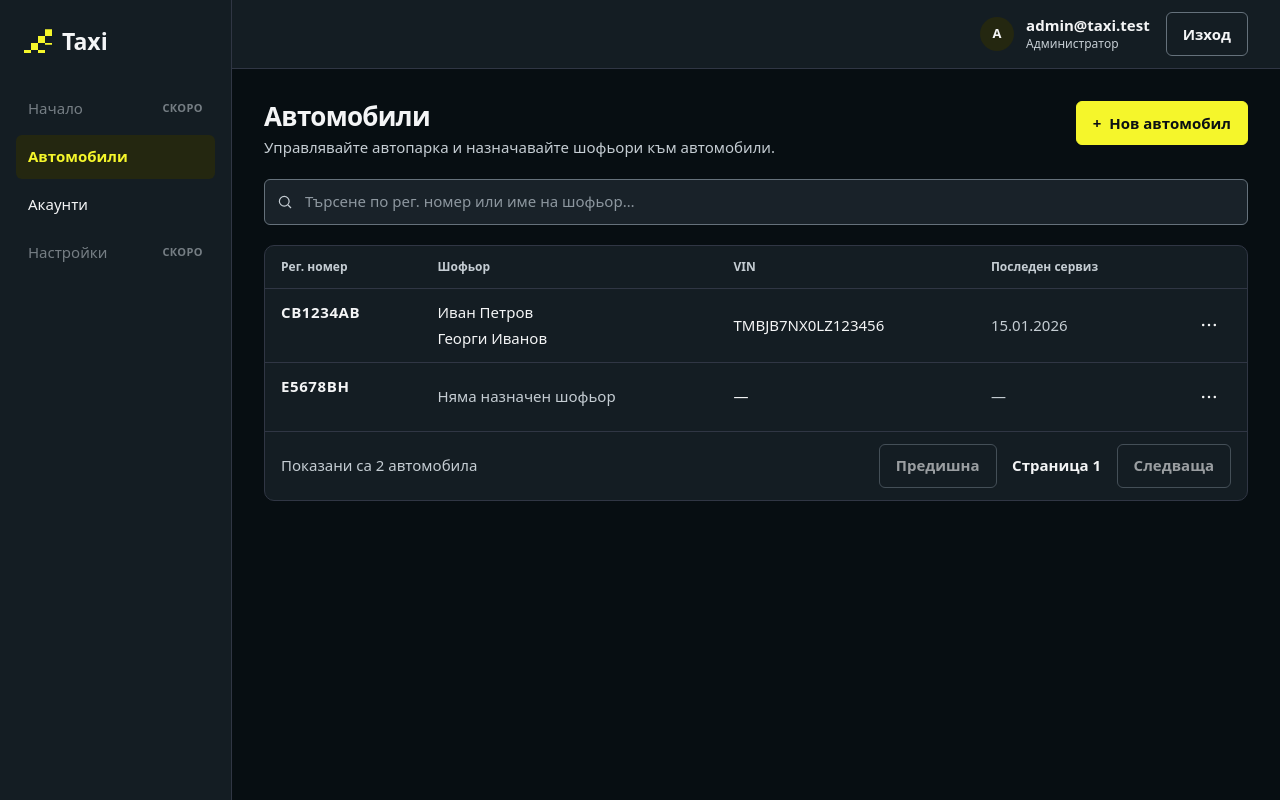
CarsPage (mocked car port, not live integration) › shows the API refusal of a field beside it and focuses it
Click the button named "Действия за CB1234AB" at (1209,325), box [1187,303,1231,347]
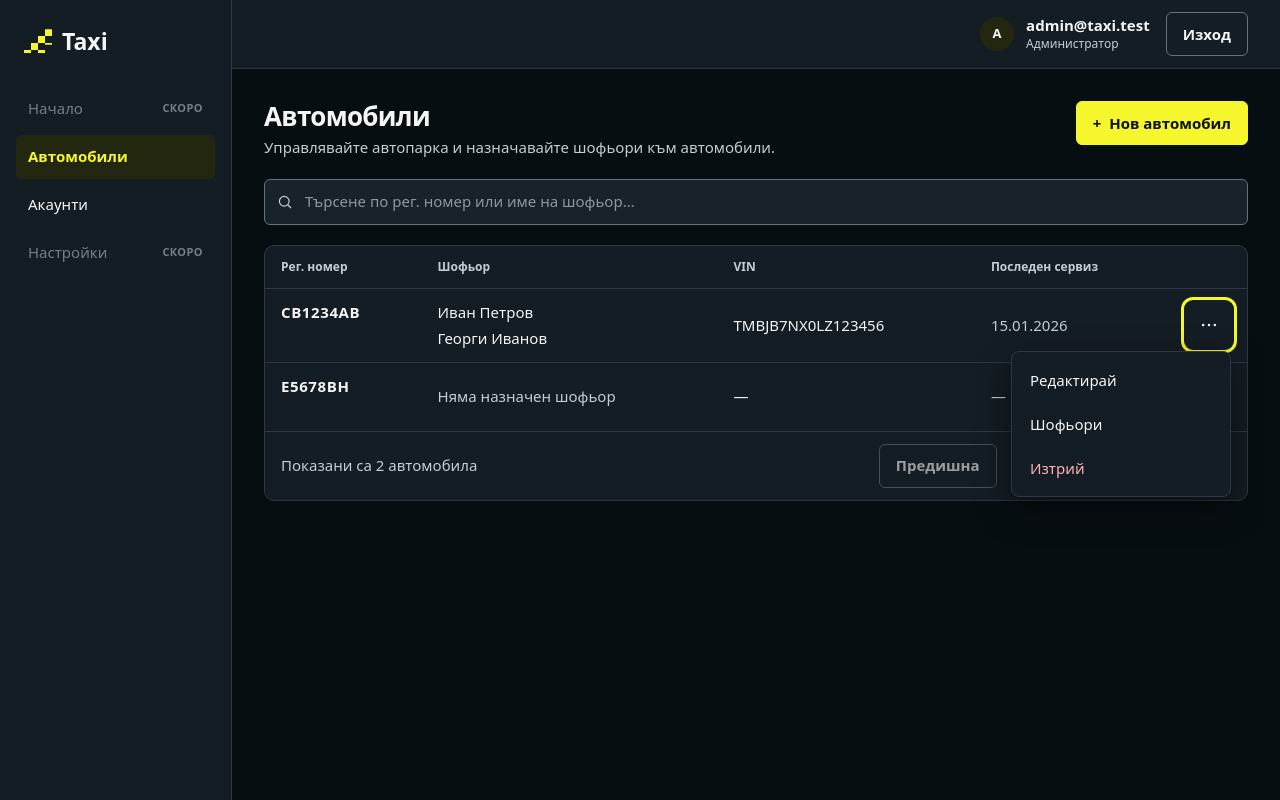
Click the menu item "Редактирай" at (1121,380), box [1018,358,1224,402]
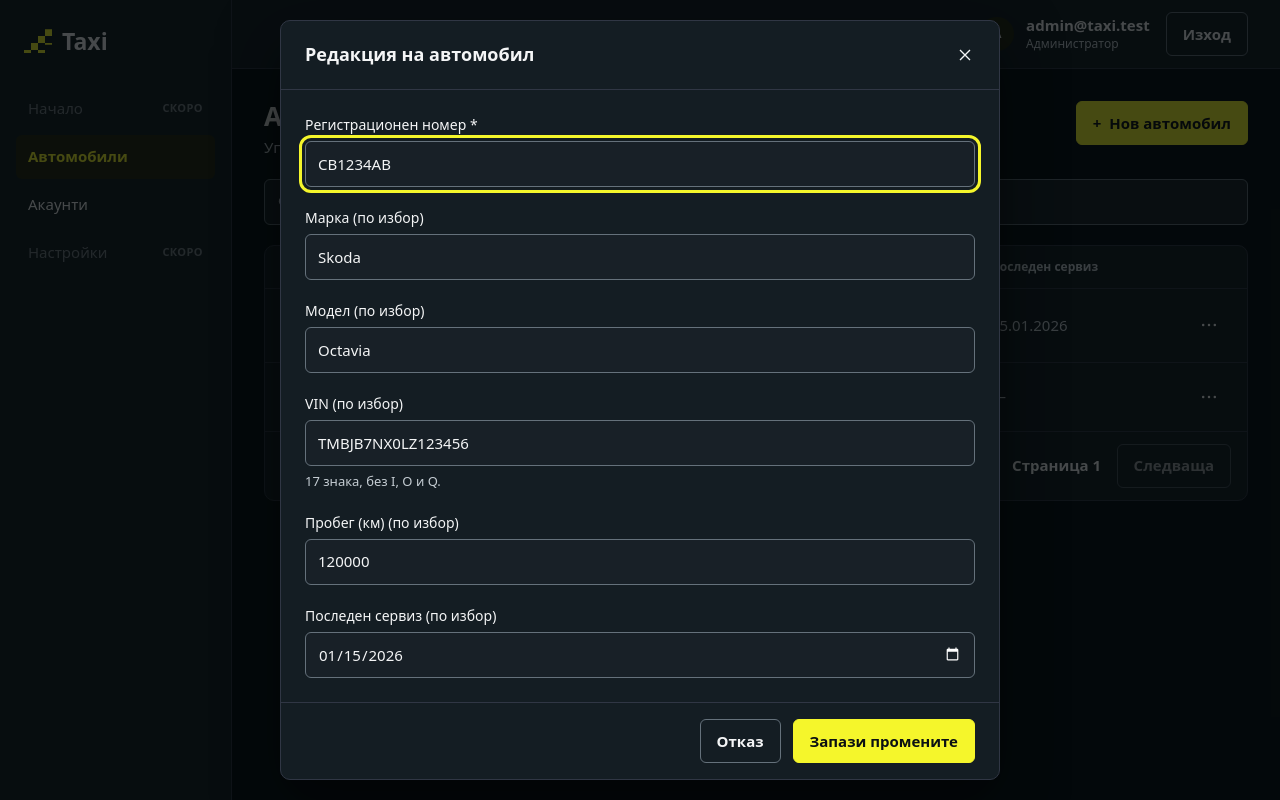
Click the button "Запази промените" at (884,741), box [792,719,975,763]
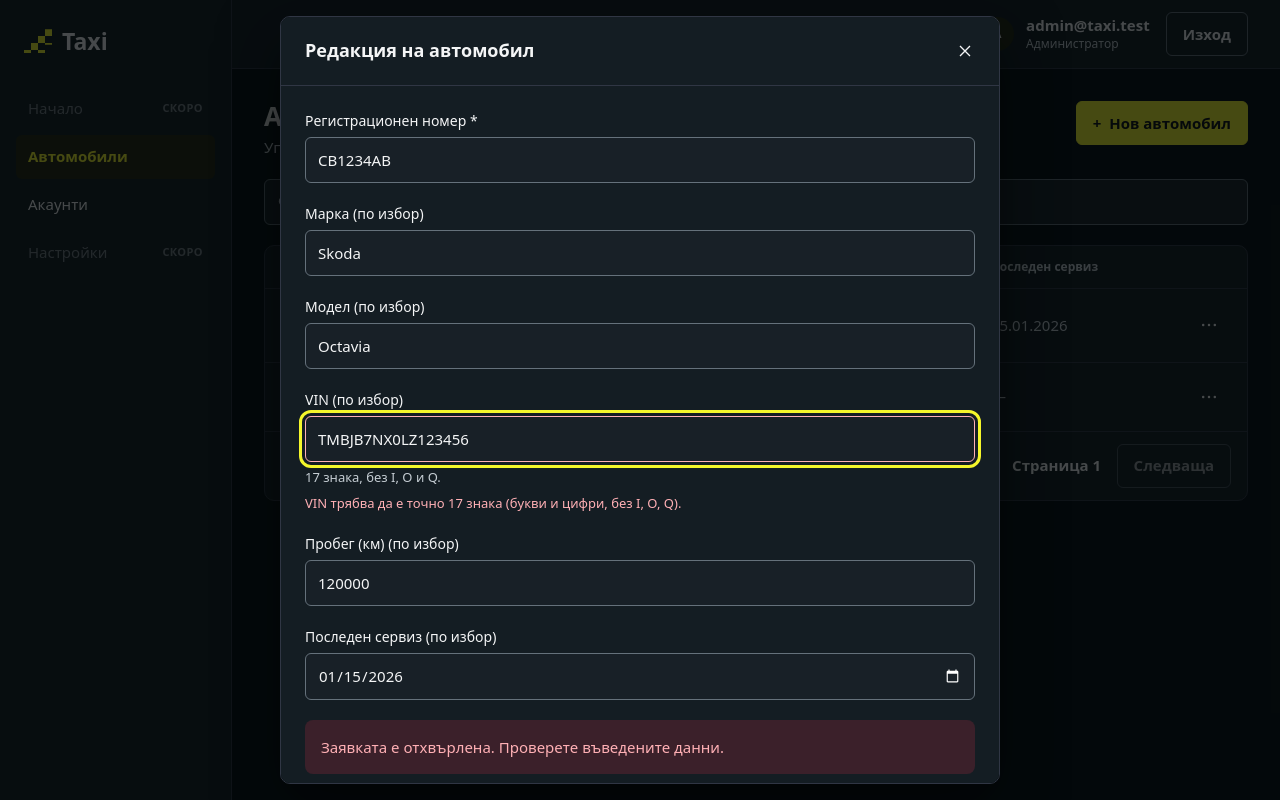
Now the text "VIN трябва да е точно 17 знака (букви и цифри, без I, O, Q)." is shown, box [305,494,681,512]
